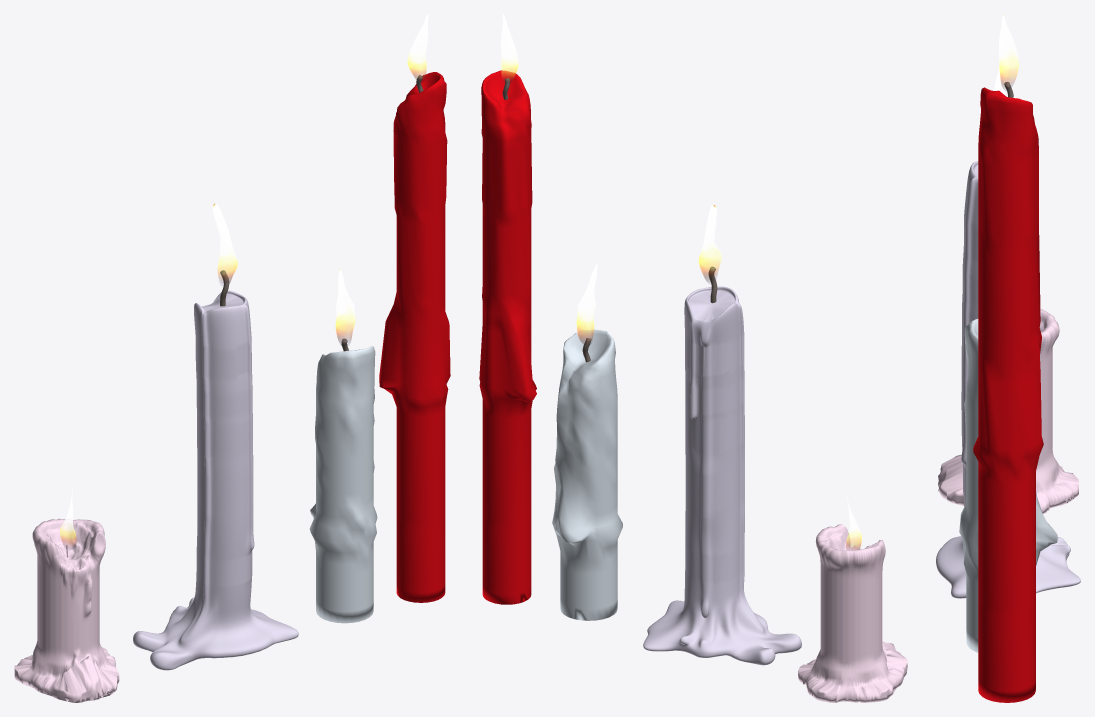
File: lw-candles.glb
3 renders of one model, left to right at view 1: azimuth 30°, elevation 25°; view 2: azimuth 150°, elevation 25°; view 3: azimuth 270°, elevation 25°, orthographic. The views are drawn at different scales.
Visible parts, largest first — view 1: lw-candles-9, lw-candles-3, lw-candles-6, lw-candles-0, lw-candles-4, lw-candles-5, lw-candles-8; view 2: lw-candles-9, lw-candles-3, lw-candles-6, lw-candles-0, lw-candles-4, lw-candles-5, lw-candles-8; view 3: lw-candles-9, lw-candles-3, lw-candles-6, lw-candles-0, lw-candles-8, lw-candles-4.
Part boxes in pixels (x1,y1,x2,y2): lw-candles-9: (379,72,450,602); lw-candles-3: (133,290,298,670); lw-candles-6: (309,346,377,623); lw-candles-0: (14,518,119,702); lw-candles-4: (212,203,237,284); lw-candles-5: (335,269,355,344); lw-candles-8: (407,14,428,81); lw-candles-9: (479,70,536,604); lw-candles-3: (643,286,801,665); lw-candles-6: (552,329,622,620); lw-candles-0: (798,524,907,702); lw-candles-4: (698,204,721,283); lw-candles-5: (576,264,597,344); lw-candles-8: (501,14,518,83); lw-candles-9: (973,87,1043,702); lw-candles-3: (936,161,1080,598); lw-candles-6: (959,319,1057,652); lw-candles-0: (938,309,1078,513); lw-candles-8: (998,14,1018,89); lw-candles-4: (994,56,1008,94).
Bounding box in the file's own units: 0.7542 × 1 × 0.1931.
Materials: 6 (1 with a texture image).
